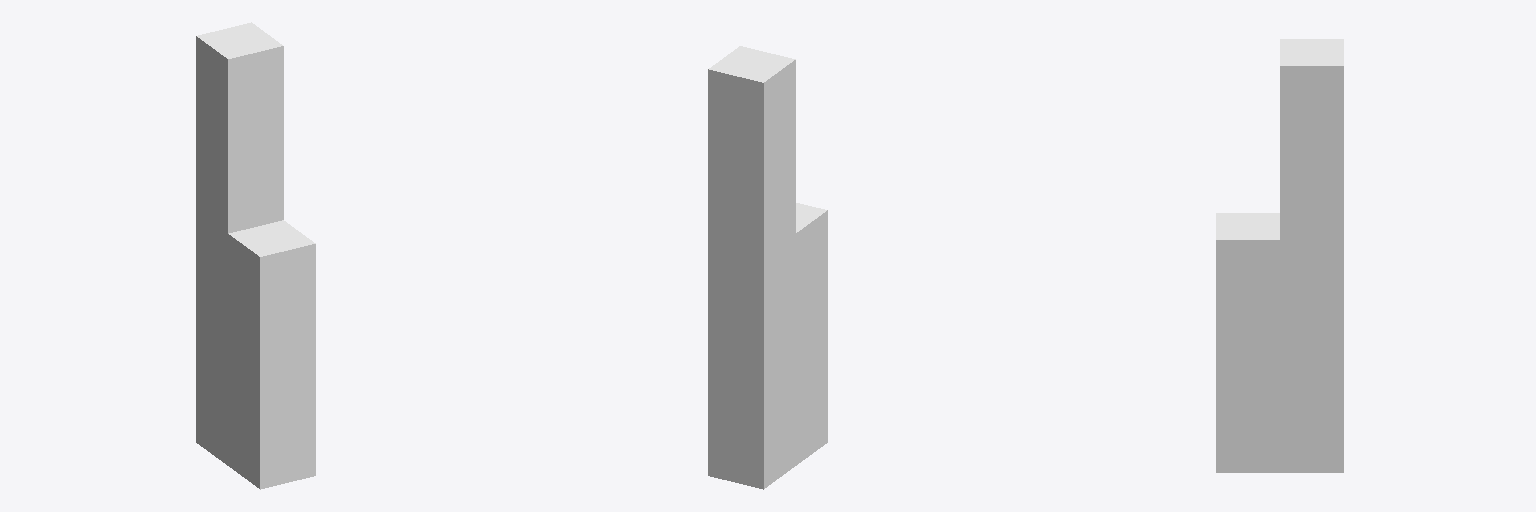
Rendered from SH_Enviorment-6-Small_BoardB.obj.
The picture shows the model from 3 angles: view 1: azimuth 30°, elevation 25°; view 2: azimuth 150°, elevation 25°; view 3: azimuth 270°, elevation 25°; orthographic projection.
Visible parts, largest first — view 1: Small_BoardB; view 2: Small_BoardB; view 3: Small_BoardB.
Boxes of the visible parts, x1=… form: Small_BoardB: x1=196, y1=22, x2=315, y2=489; Small_BoardB: x1=708, y1=46, x2=827, y2=489; Small_BoardB: x1=1216, y1=39, x2=1343, y2=472.
Size of the model in its own units: 0.1 by 0.7 by 0.2.